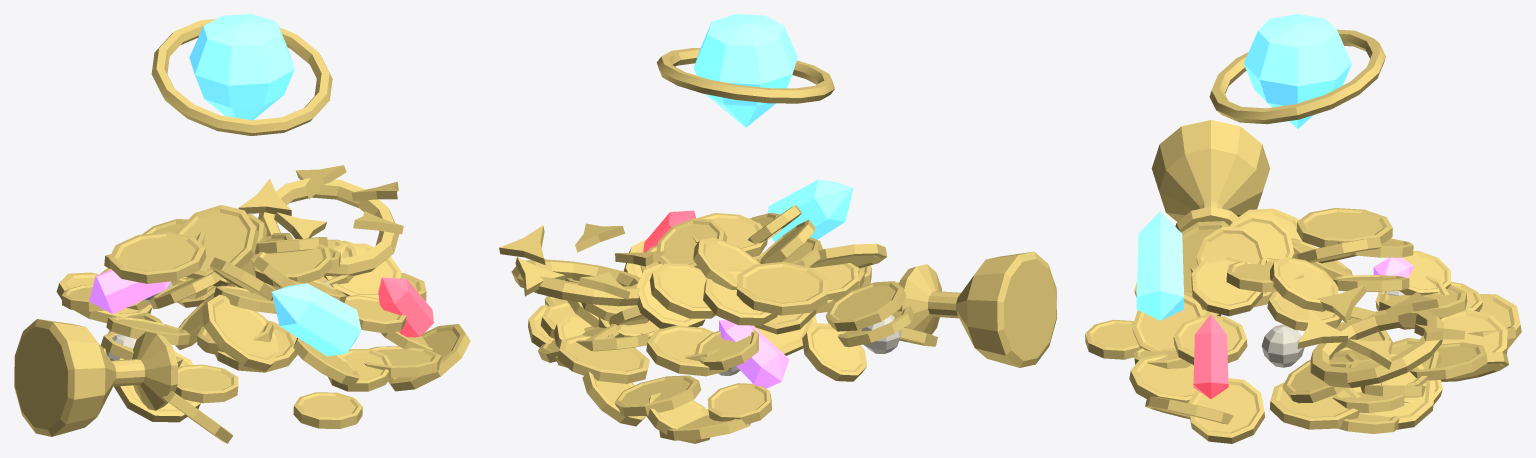
File: pickups-and-collectibles-treasure-pile-7ea23ce2__19864.glb
The picture shows the model from 3 angles, left to right: view 1: azimuth 30°, elevation 25°; view 2: azimuth 150°, elevation 25°; view 3: azimuth 270°, elevation 25°; orthographic projection.
Visible parts, largest first — view 1: body/gold, prize/gem, prize/gold, body/gem, body/ruby, body/arcane; view 2: body/gold, prize/gem, prize/gold, body/gem, body/arcane, body/bone, body/ruby; view 3: body/gold, prize/gem, prize/gold, body/gem, body/ruby, body/bone, body/arcane.
Boxes of the visible parts, bbox=[...] form: body/gold: bbox=[14, 165, 470, 443]; prize/gem: bbox=[189, 14, 294, 120]; prize/gold: bbox=[151, 18, 332, 135]; body/gem: bbox=[271, 283, 361, 356]; body/ruby: bbox=[378, 277, 433, 337]; body/arcane: bbox=[89, 269, 170, 313]; body/gold: bbox=[499, 205, 1056, 443]; prize/gem: bbox=[694, 14, 797, 127]; prize/gold: bbox=[656, 48, 834, 103]; body/gem: bbox=[767, 179, 853, 242]; body/arcane: bbox=[719, 320, 789, 388]; body/bone: bbox=[718, 315, 901, 375]; body/ruby: bbox=[643, 210, 695, 252]; body/gold: bbox=[1085, 120, 1521, 443]; prize/gem: bbox=[1243, 14, 1351, 128]; prize/gold: bbox=[1209, 29, 1385, 124]; body/gem: bbox=[1136, 211, 1183, 320]; body/ruby: bbox=[1193, 314, 1228, 398]; body/bone: bbox=[1261, 290, 1404, 367]; body/arcane: bbox=[1373, 257, 1414, 277].
Size of the model in its own units: 0.7208 by 0.5333 by 0.6038.
